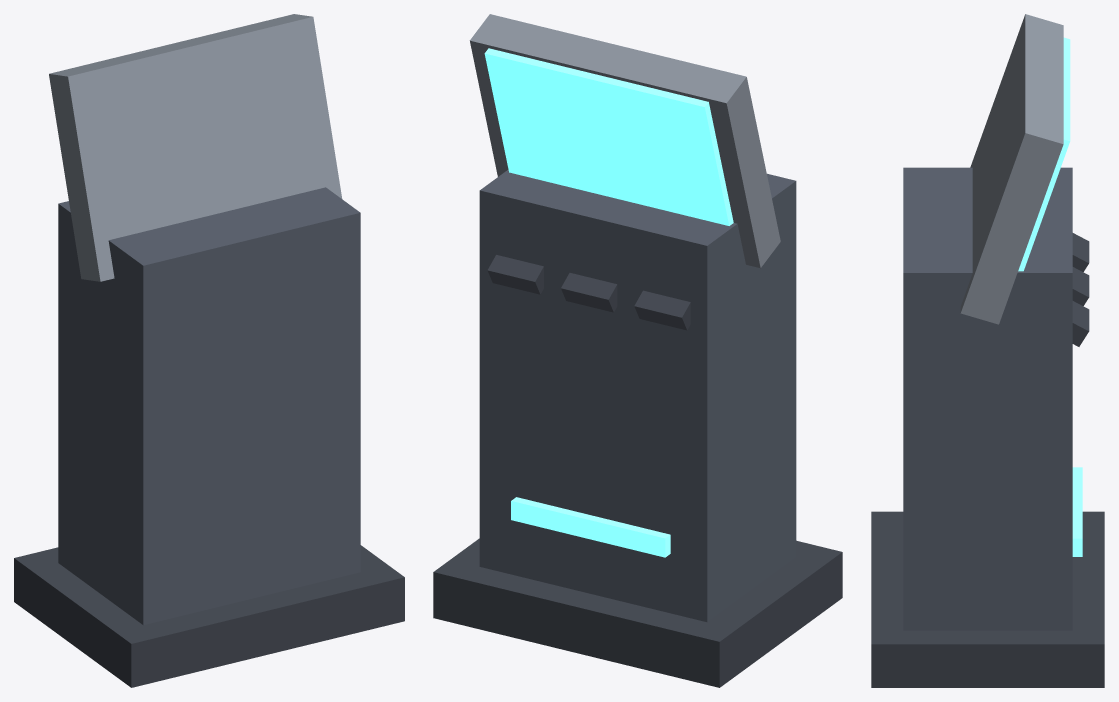
File: prop_terminal.glb
The picture shows the model from 3 angles, left to right: view 1: azimuth 30°, elevation 25°; view 2: azimuth 150°, elevation 25°; view 3: azimuth 270°, elevation 25°; orthographic projection. The views are drawn at different scales.
Parts seen in each view (by area): view 1: prop_terminal; view 2: prop_terminal; view 3: prop_terminal.
Boxes of the visible parts, box(x1,y1,x2,y2) form: prop_terminal: box(14, 14, 404, 687); prop_terminal: box(433, 14, 842, 687); prop_terminal: box(871, 14, 1104, 687).
Bounding box in the file's own units: 0.78 × 1.5 × 0.58.
